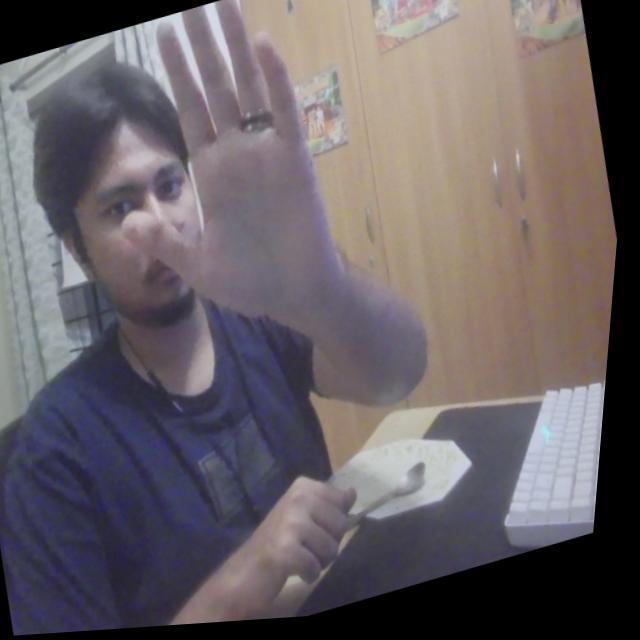hello: (65, 0, 393, 372)
